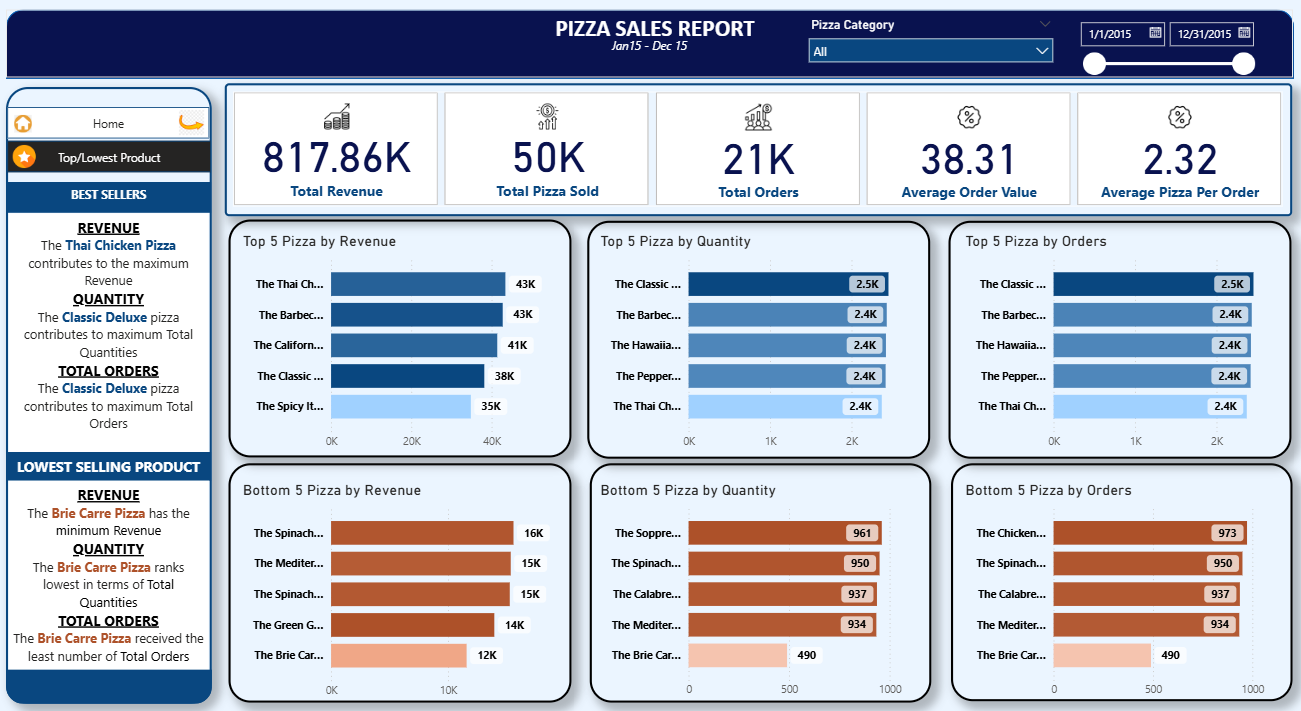

The dashboard page shown, as its layout file describes it:
{"tool":"powerbi","page":{"name":"Top/Lowest Product","canvas":[1500,820],"ordinal":1},"visuals":[{"type":"shape","box":[11.1,13.9,1472.1,79.4],"z":0},{"type":"cardVisual","fields":{"Data":["pizza_sales.Total Revenue","pizza_sales.Total Pizza Sold","pizza_sales.Total Orders","pizza_sales.Average Order Value","pizza_sales.Average Pizza Per Order"]},"box":[261.8,98.9,1220,151.8],"z":1000},{"type":"textbox","box":[633.7,13.9,238.1,58.5],"z":2000},{"type":"textbox","box":[699.1,41.8,98.9,30.6],"z":3000},{"type":"shape","box":[11.1,103.1,235.4,704.7],"z":4000},{"type":"shape","box":[265.3,532.3,392.4,273.4],"z":5000},{"type":"shape","box":[678.6,532.3,390.8,273.4],"z":6000},{"type":"shape","box":[1091.9,532.3,390.8,271.8],"z":7000},{"type":"textbox","box":[11.8,211.8,234.5,35.5],"z":8000},{"type":"textbox","box":[14.3,247.1,228.6,272.9],"z":9000},{"type":"textbox","box":[11.8,520,234.5,32.7],"z":10000},{"type":"textbox","box":[14.3,552.9,228.6,234.3],"z":11000},{"type":"slicer","fields":{"Values":["pizza_sales.pizza_category"]},"box":[919.2,18.1,299.4,72.4],"z":12000},{"type":"slicer","fields":{"Values":["pizza_sales.order_date"]},"box":[1226.9,18.1,220,72.4],"z":13000},{"type":"shape","box":[265.3,254.1,392.4,271.8],"z":14000},{"type":"shape","box":[675.4,255.7,392.4,271.8],"z":15000},{"type":"shape","box":[1088.7,255.7,392.4,271.8],"z":16000},{"type":"barChart","title":"Top 5 Pizza by Revenue","fields":{"Category":["pizza_sales.pizza_name"],"Y":["pizza_sales.Total Revenue"]},"box":[276.6,268.5,371.5,257.3],"z":17000},{"type":"barChart","title":"Bottom 5 Pizza by Revenue","fields":{"Category":["pizza_sales.pizza_name"],"Y":["pizza_sales.Total Revenue"]},"box":[277.1,552.9,371.8,257.6],"z":18000},{"type":"barChart","title":"Top 5 Pizza by Quantity","fields":{"Category":["pizza_sales.pizza_name"],"Y":["pizza_sales.Total Pizza Sold"]},"box":[685,268.5,371.5,257.3],"z":19000},{"type":"barChart","title":"Bottom 5 Pizza by Quantity","fields":{"Category":["pizza_sales.pizza_name"],"Y":["pizza_sales.Total Pizza Sold"]},"box":[685,553.2,371.5,257.3],"z":20000},{"type":"barChart","title":"Top 5 Pizza by Orders","fields":{"Category":["pizza_sales.pizza_name"],"Y":["pizza_sales.Total Pizza Sold"]},"box":[1103.1,268.5,371.5,257.3],"z":21000},{"type":"barChart","title":"Bottom 5 Pizza by Orders","fields":{"Category":["pizza_sales.pizza_name"],"Y":["pizza_sales.Total Pizza Sold"]},"box":[1103.1,553.2,371.5,257.3],"z":22000},{"type":"shape","box":[10.9,768.2,235.5,39.1],"z":23000},{"type":"pageNavigator","box":[12.5,126.2,231.2,36.2],"z":24000},{"type":"pageNavigator","box":[12.5,165,233.8,36.2],"z":24001},{"type":"image","box":[12.5,130,36.2,30],"z":24002},{"type":"image","box":[13.8,165,36.2,36.2],"z":24003},{"type":"image","box":[203.8,123.8,38.8,38.8],"z":24004}]}

Visuals, with their boxes in screenshot pixels (x1, y1, x2, y2), scaled from the page's 1500x820 canvas onto the 1301x711 screenshot:
shape: bbox=[10, 12, 1286, 81]
cardVisual - pizza_sales.Total Revenue x pizza_sales.Total Pizza Sold: bbox=[227, 86, 1285, 217]
textbox: bbox=[550, 12, 756, 63]
textbox: bbox=[606, 36, 692, 63]
shape: bbox=[10, 89, 214, 700]
shape: bbox=[230, 462, 570, 699]
shape: bbox=[589, 462, 928, 699]
shape: bbox=[947, 462, 1286, 697]
textbox: bbox=[10, 184, 214, 214]
textbox: bbox=[12, 214, 211, 451]
textbox: bbox=[10, 451, 214, 479]
textbox: bbox=[12, 479, 211, 683]
slicer - pizza_sales.pizza_category: bbox=[797, 16, 1057, 78]
slicer - pizza_sales.order_date: bbox=[1064, 16, 1255, 78]
shape: bbox=[230, 220, 570, 456]
shape: bbox=[586, 222, 926, 457]
shape: bbox=[944, 222, 1285, 457]
"Top 5 Pizza by Revenue" barChart: bbox=[240, 233, 562, 456]
"Bottom 5 Pizza by Revenue" barChart: bbox=[240, 479, 563, 703]
"Top 5 Pizza by Quantity" barChart: bbox=[594, 233, 916, 456]
"Bottom 5 Pizza by Quantity" barChart: bbox=[594, 480, 916, 703]
"Top 5 Pizza by Orders" barChart: bbox=[957, 233, 1279, 456]
"Bottom 5 Pizza by Orders" barChart: bbox=[957, 480, 1279, 703]
shape: bbox=[9, 666, 214, 700]
pageNavigator: bbox=[11, 109, 211, 141]
pageNavigator: bbox=[11, 143, 214, 174]
image: bbox=[11, 113, 42, 139]
image: bbox=[12, 143, 43, 174]
image: bbox=[177, 107, 210, 141]
